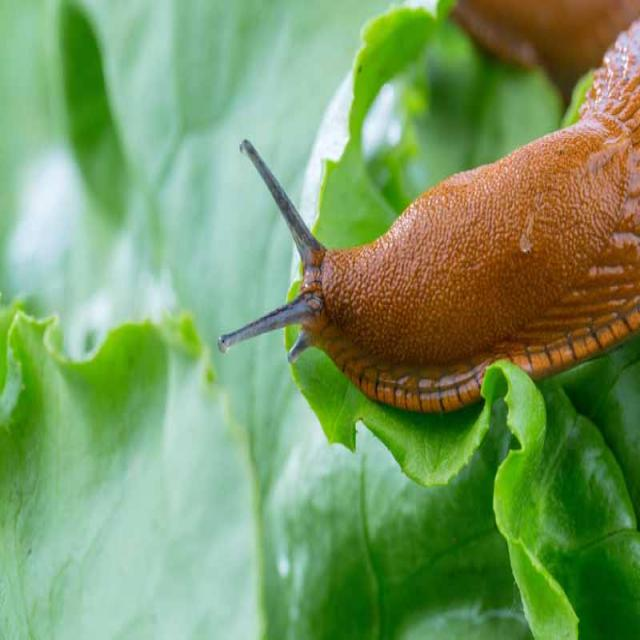slug: (206, 51, 640, 452)
